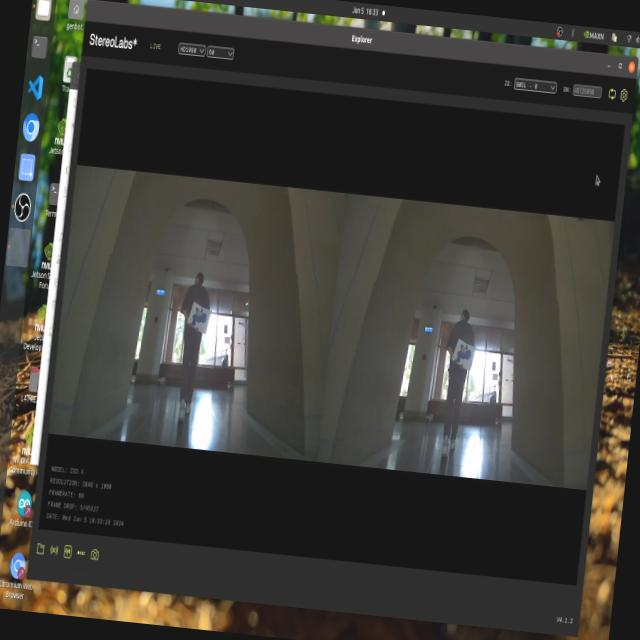blue: (452, 342, 473, 371), (190, 301, 210, 330)
